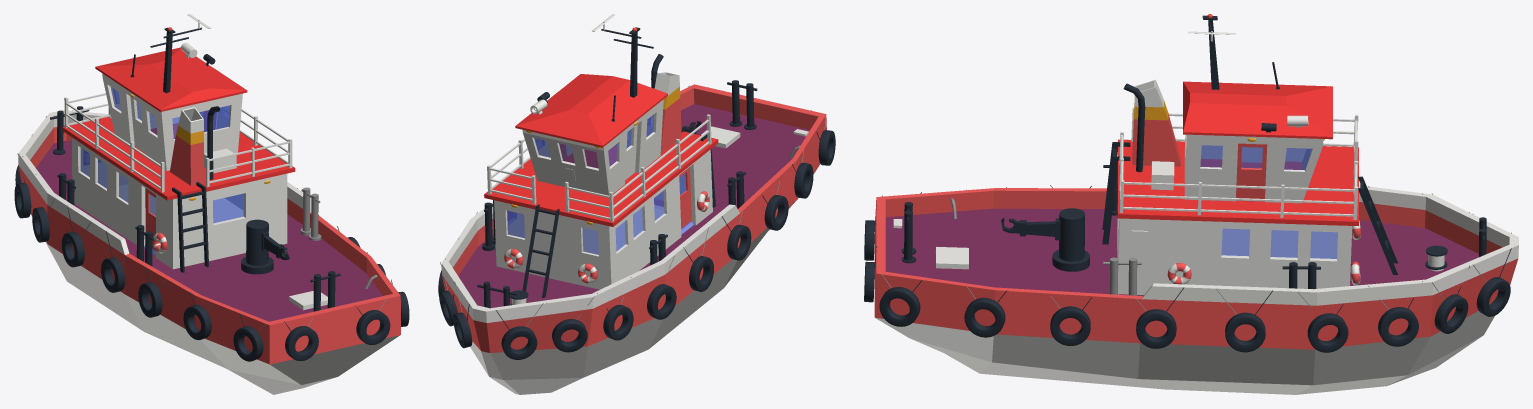
Rendered from Ship.FBX.
3 views of the same model, side by side, from view 1: azimuth 30°, elevation 25°; view 2: azimuth 150°, elevation 25°; view 3: azimuth 270°, elevation 25° (orthographic). The views are drawn at different scales.
Parts seen in each view (by area): view 1: Body, Floor_1, Floor_2, Roof, Cube_2_4, Pipe_Big, Cylinder_5, Tube_20, Tube_18, Tube_19, Tube_16, Tube_17 (+11 smaller); view 2: Body, Floor_1, Floor_2, Roof, Cube_2_4, Pipe_Big, Tube_10, Tube_11, Tube_12, Tube_13, Tube_14, Tube_17 (+9 smaller); view 3: Body, Floor_1, Cube_2_4, Floor_2, Roof, Pipe_Big, Cylinder_5, Tube_4, Tube_5, Tube_9, Tube_7, Tube_3 (+11 smaller).
Part boxes in pixels (x1,y1,x2,y2): Body: (18,110,400,394); Floor_1: (72,137,287,269); Floor_2: (102,73,242,170); Roof: (95,47,247,111); Cube_2_4: (62,117,295,200); Pipe_Big: (170,107,203,185); Cylinder_5: (246,219,268,265); Tube_20: (356,310,390,344); Tube_18: (285,326,318,360); Tube_19: (233,326,263,361); Tube_16: (183,304,211,340); Tube_17: (138,282,162,317); Body: (441,84,826,394); Floor_1: (494,149,712,289); Floor_2: (522,99,663,195); Roof: (515,74,667,147); Cube_2_4: (484,131,718,226); Pipe_Big: (654,72,681,153); Tube_10: (501,326,537,359); Tube_11: (552,319,587,352); Tube_12: (603,304,633,340); Tube_13: (647,284,676,319); Tube_14: (689,256,713,291); Tube_17: (764,195,788,230); Body: (874,185,1518,394); Floor_1: (1117,218,1352,294); Cube_2_4: (1117,139,1358,226); Floor_2: (1184,134,1323,203); Roof: (1183,81,1332,139); Pipe_Big: (1132,79,1180,166); Cylinder_5: (1059,208,1084,261); Tube_4: (1307,313,1348,352); Tube_5: (1225,312,1265,352); Tube_9: (879,287,920,326); Tube_7: (964,297,1005,337); Tube_3: (1378,307,1418,346).
Bounding box in the file's own units: 568 × 807 × 1326.
